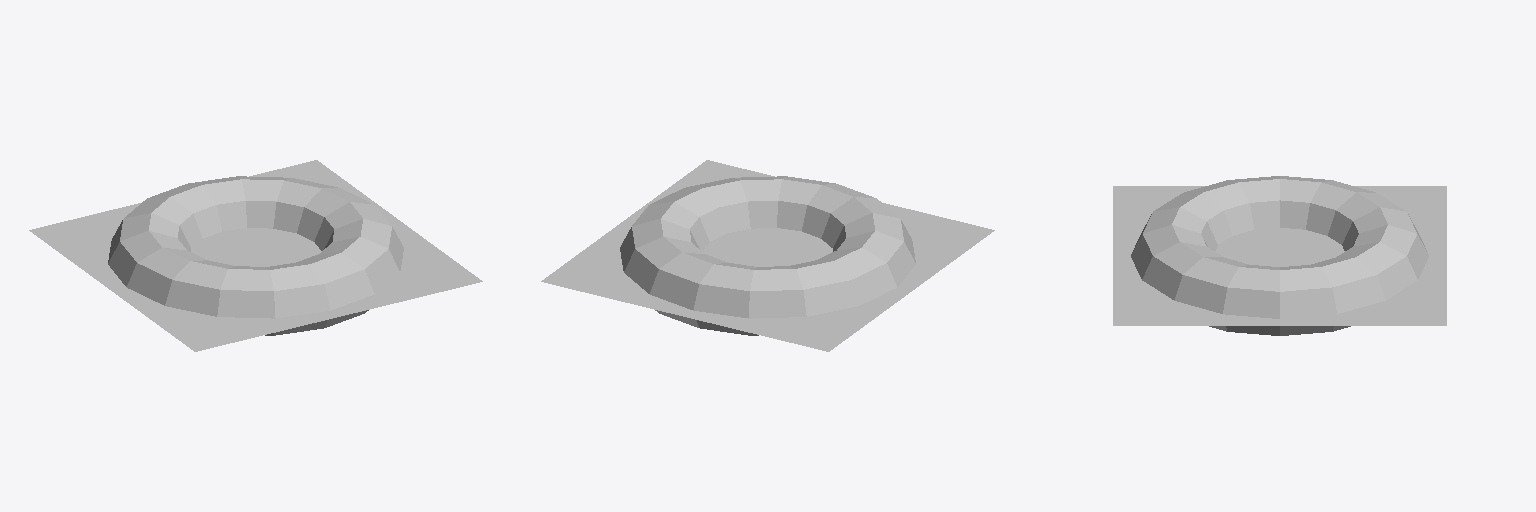
The model's file is hole.obj.
3 renders of one model, left to right at view 1: azimuth 30°, elevation 25°; view 2: azimuth 150°, elevation 25°; view 3: azimuth 270°, elevation 25°, orthographic.
Visible parts, largest first — view 1: Plane001; view 2: Plane001; view 3: Plane001.
Boxes of the visible parts, x1,y1,x2,y2 form: Plane001: [29, 160, 482, 351]; Plane001: [541, 160, 994, 351]; Plane001: [1113, 176, 1446, 335].
Bounding box in the file's own units: 100 × 20.78 × 100.